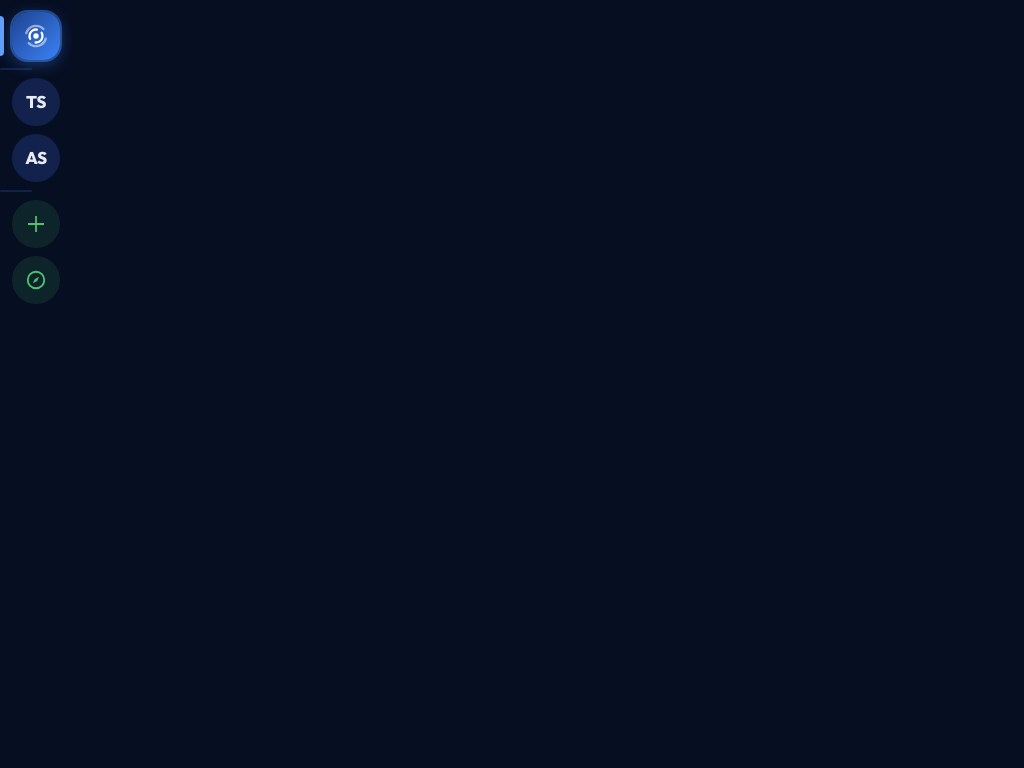
Test case: ServerSidebar › opens the Discover modal when the Discover servers button is clicked
Step 1. Click the button named "Discover servers" → (36, 280), box [12,256,60,304]
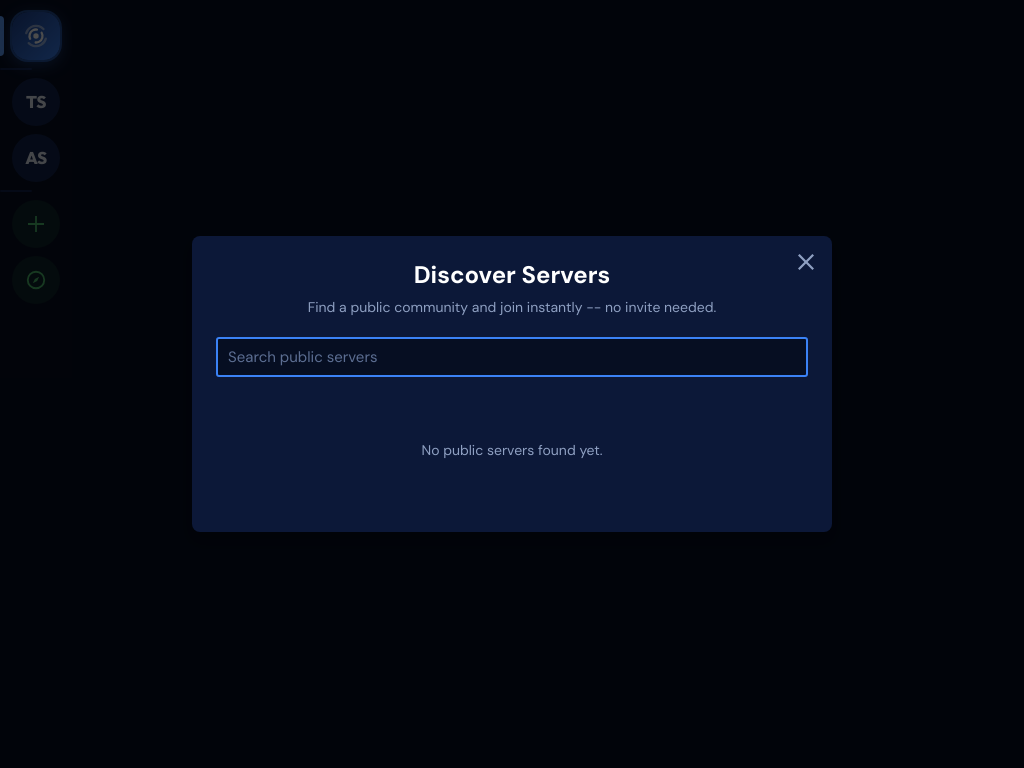
Now the dialog "Discover Servers" is shown
